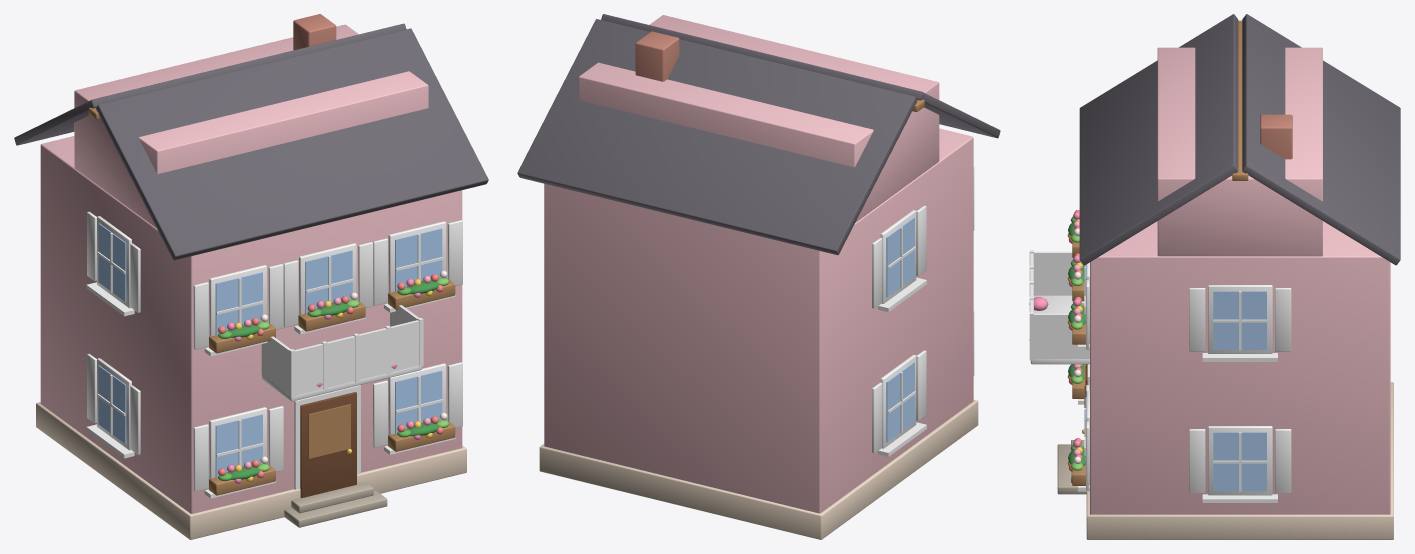
Rendered from house_pink.glb.
3 renders of one model, left to right at view 1: azimuth 30°, elevation 25°; view 2: azimuth 150°, elevation 25°; view 3: azimuth 270°, elevation 25°, orthographic. The views are drawn at different scales.
Visible parts, largest first — view 1: house_pink; view 2: house_pink; view 3: house_pink.
Part boxes in pixels (x1,y1,x2,y2): house_pink: (14,14,488,539); house_pink: (517,14,1000,539); house_pink: (1029,14,1400,539).
Bounding box in the file's own units: 6.8 × 8.05 × 6.92.
